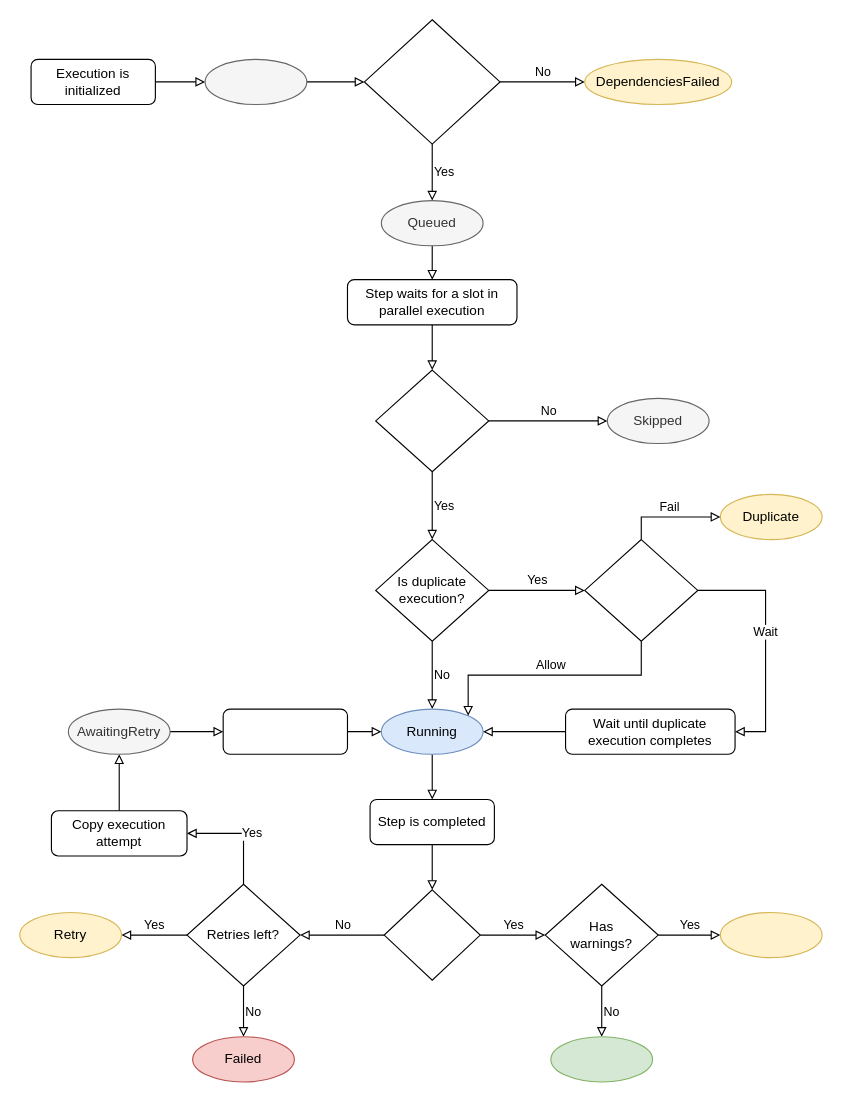
Image size: 842x1102. Some labels were removed from this diagram. Each missing label, with the box of its shape:
All strict dependencies succeeded?: (363, 19, 500, 144)
Duplicate execution behaviour?: (584, 538, 698, 641)
Execution condition is met?: (375, 369, 489, 472)
NotStarted: (204, 58, 307, 105)
Succeeded: (550, 1036, 653, 1082)
Success?: (383, 889, 480, 980)
Wait retry interval duration: (222, 708, 347, 754)
Warning: (719, 911, 822, 958)
